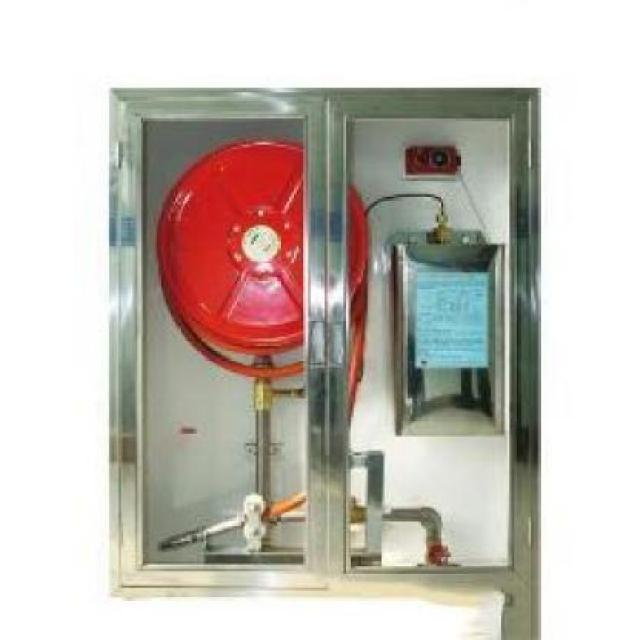firehydrant: (105, 84, 547, 608)
